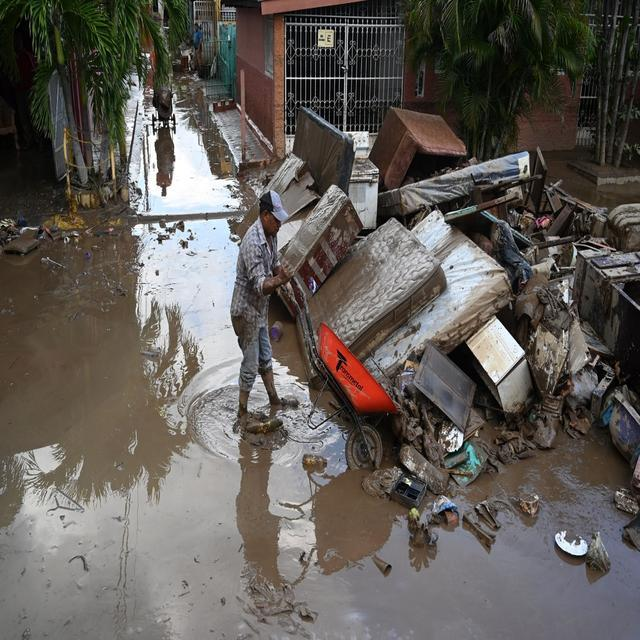Person-RiskLevel2: (219, 188, 320, 431)
